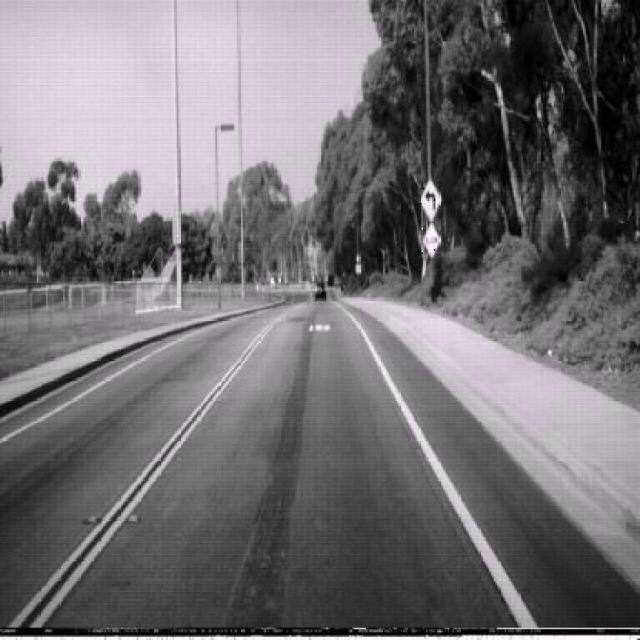slow: (422, 222, 441, 258)
turnLeft: (418, 177, 442, 222)
